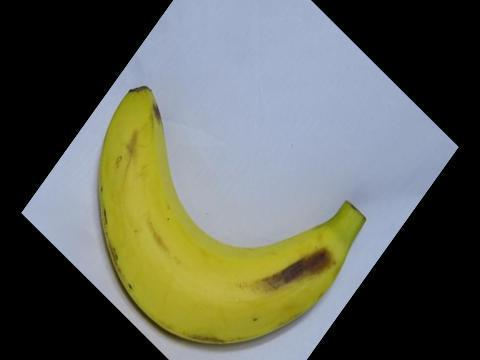freshripe: (87, 77, 382, 354)
